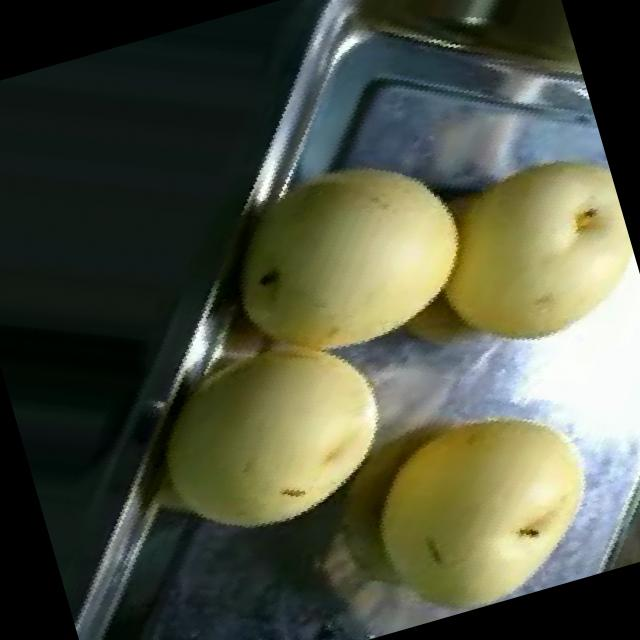Fruit: (162, 90, 524, 432), (98, 286, 440, 592), (312, 345, 637, 637), (379, 104, 640, 398)
